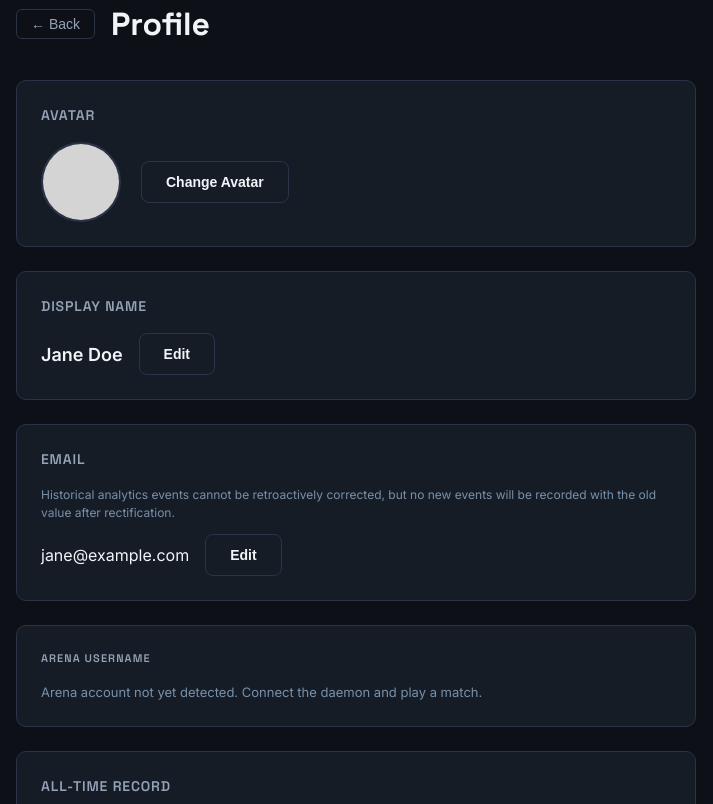
it: Profile — display name editing (AC2) › shows error message when user.update() rejects
Click the button with test id "profile-edit-name-button": (177, 354) [139, 333, 215, 375]
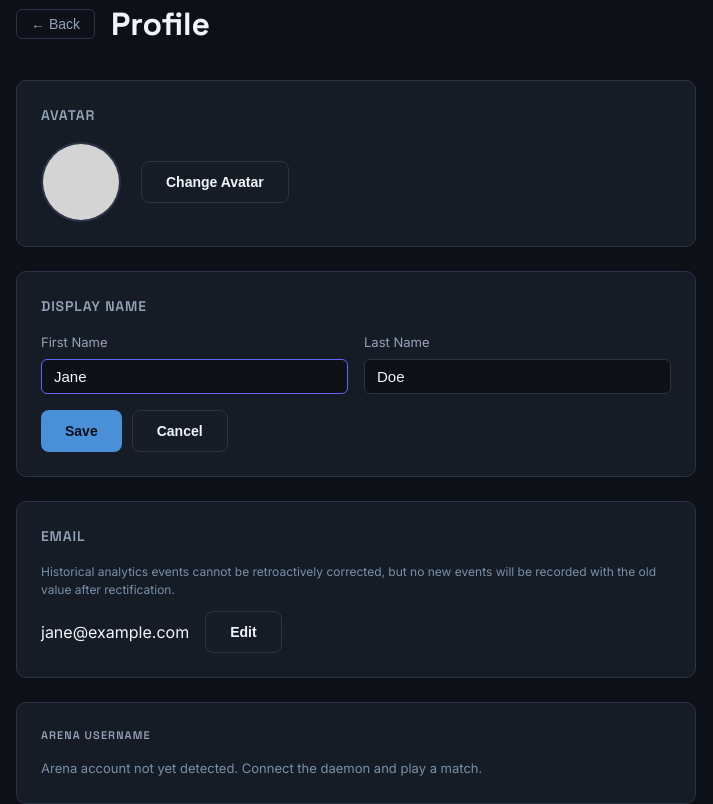
Click the button with test id "profile-save-name-button": (81, 430) [41, 410, 122, 452]
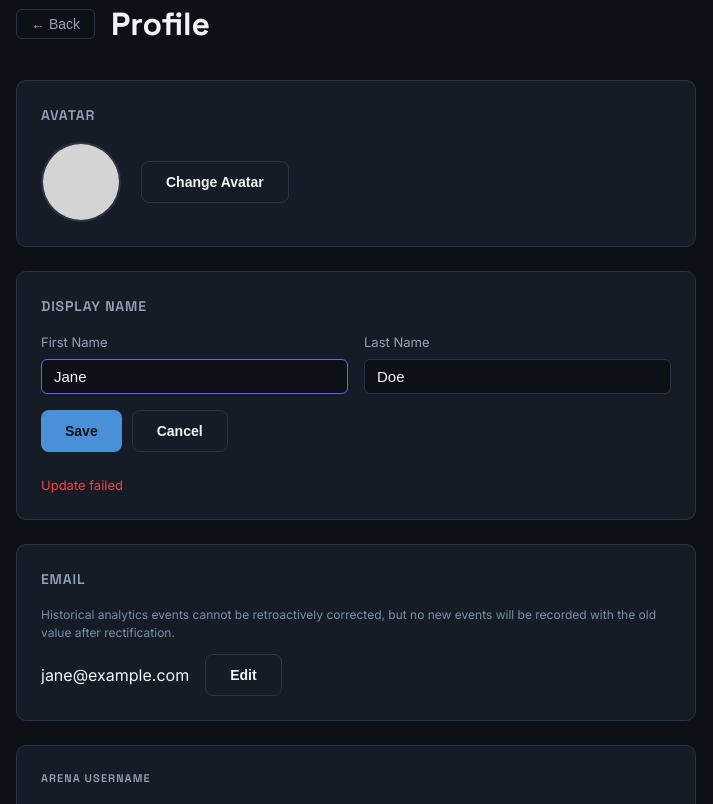
Expected: the element with test id "profile-name-form" is shown, [41, 333, 671, 495]
Expected: the message with test id "profile-name-error" reads "Update failed", [41, 476, 123, 492]
